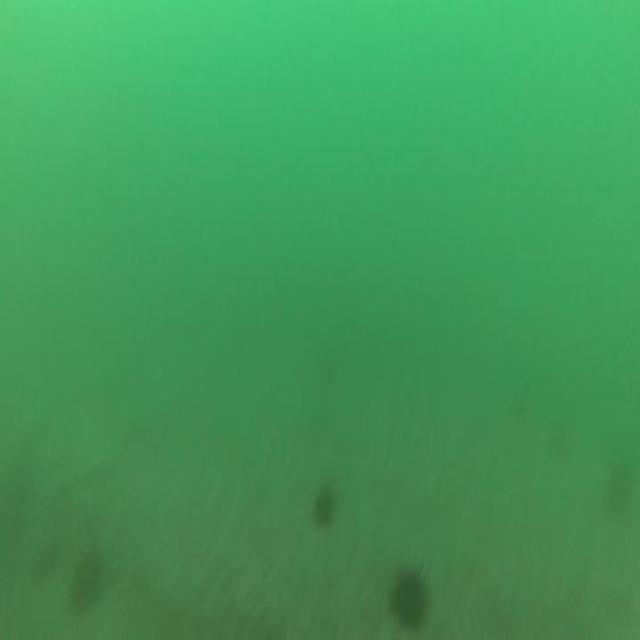echinus: (385, 556, 434, 634), (64, 542, 106, 621), (600, 454, 639, 530), (27, 532, 64, 596), (308, 480, 342, 536)
